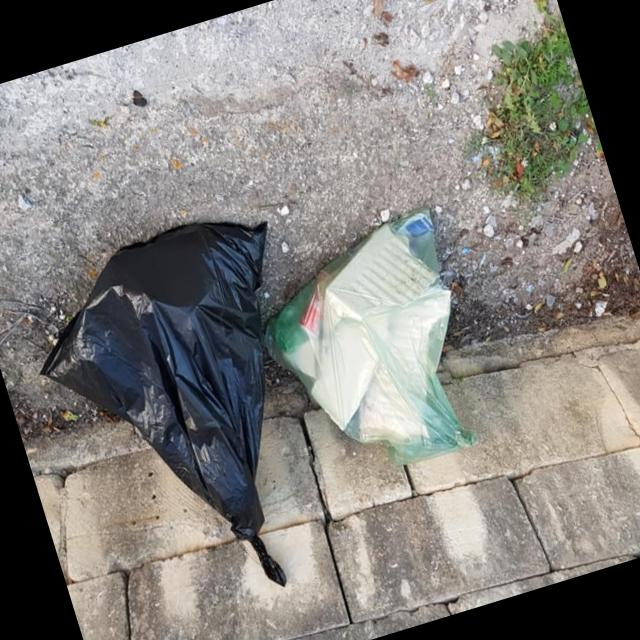Plastic bag - wrapper: (33, 215, 292, 587), (259, 192, 484, 460)
